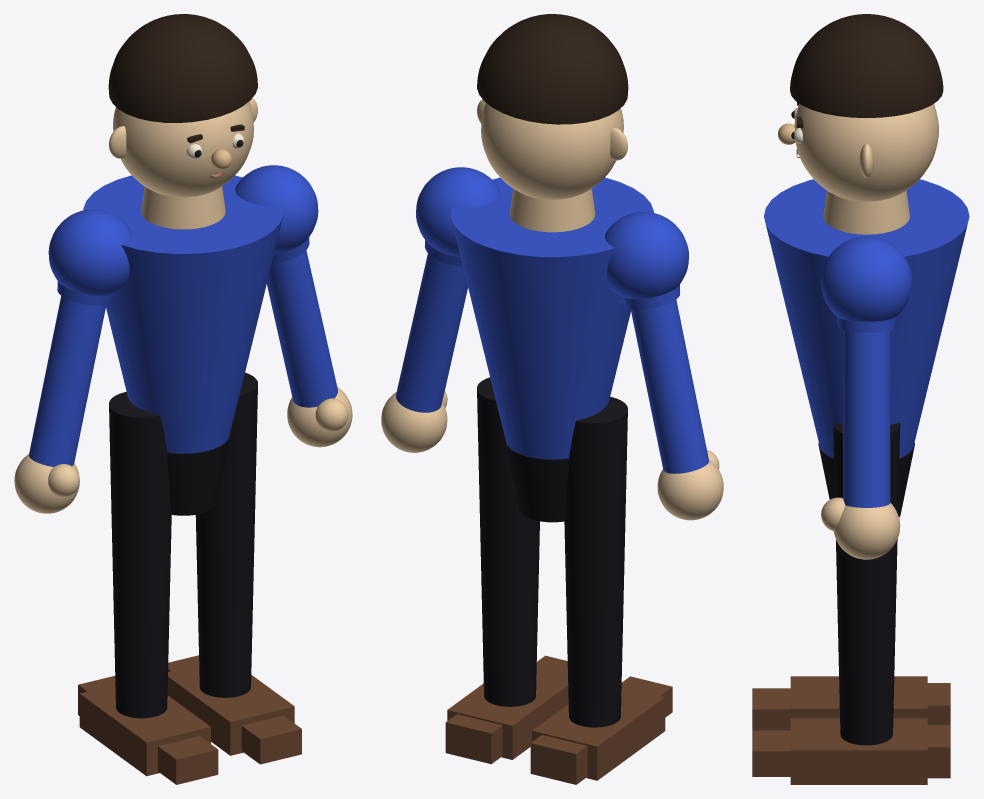
The model's file is shoppr-avatar.glb.
3 views of the same model, side by side, from view 1: azimuth 30°, elevation 25°; view 2: azimuth 150°, elevation 25°; view 3: azimuth 270°, elevation 25° (orthographic). The views are drawn at different scales.
Visible parts, largest first — view 1: SHOPPR_Avatar; view 2: SHOPPR_Avatar; view 3: SHOPPR_Avatar.
Boxes of the visible parts, x1,y1,x2,y2 form: SHOPPR_Avatar: [14, 14, 352, 784]; SHOPPR_Avatar: [381, 14, 723, 784]; SHOPPR_Avatar: [752, 14, 969, 784].
Bounding box in the file's own units: 1.02 × 2.11 × 0.57.
